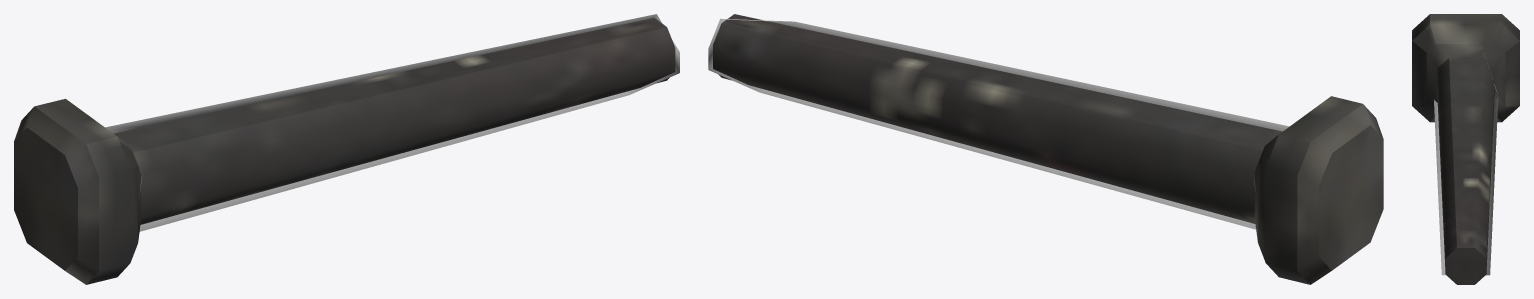
Rendered from SM_Wooden_Peg.gltf.
3 renders of one model, left to right at view 1: azimuth 30°, elevation 25°; view 2: azimuth 150°, elevation 25°; view 3: azimuth 270°, elevation 25°, orthographic. The views are drawn at different scales.
Parts seen in each view (by area): view 1: SM_Wooden_Peg_LOD0, SM_Wooden_Peg_ConvexHulls; view 2: SM_Wooden_Peg_LOD0, SM_Wooden_Peg_ConvexHulls; view 3: SM_Wooden_Peg_LOD0, SM_Wooden_Peg_ConvexHulls.
Boxes of the visible parts, x1,y1,x2,y2 form: SM_Wooden_Peg_LOD0: (14,18,675,284); SM_Wooden_Peg_ConvexHulls: (105,14,679,231); SM_Wooden_Peg_LOD0: (713,14,1383,284); SM_Wooden_Peg_ConvexHulls: (708,18,1289,229); SM_Wooden_Peg_LOD0: (1412,14,1519,284); SM_Wooden_Peg_ConvexHulls: (1434,84,1498,275).
Size of what is drawn, in the model's own units: 0.0851 by 0.0186 by 0.0186.
